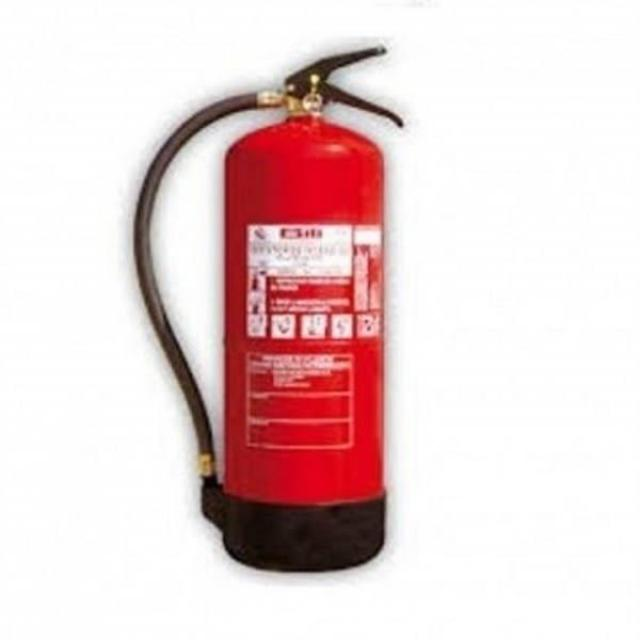fire_extinguisher: (125, 39, 408, 579)
